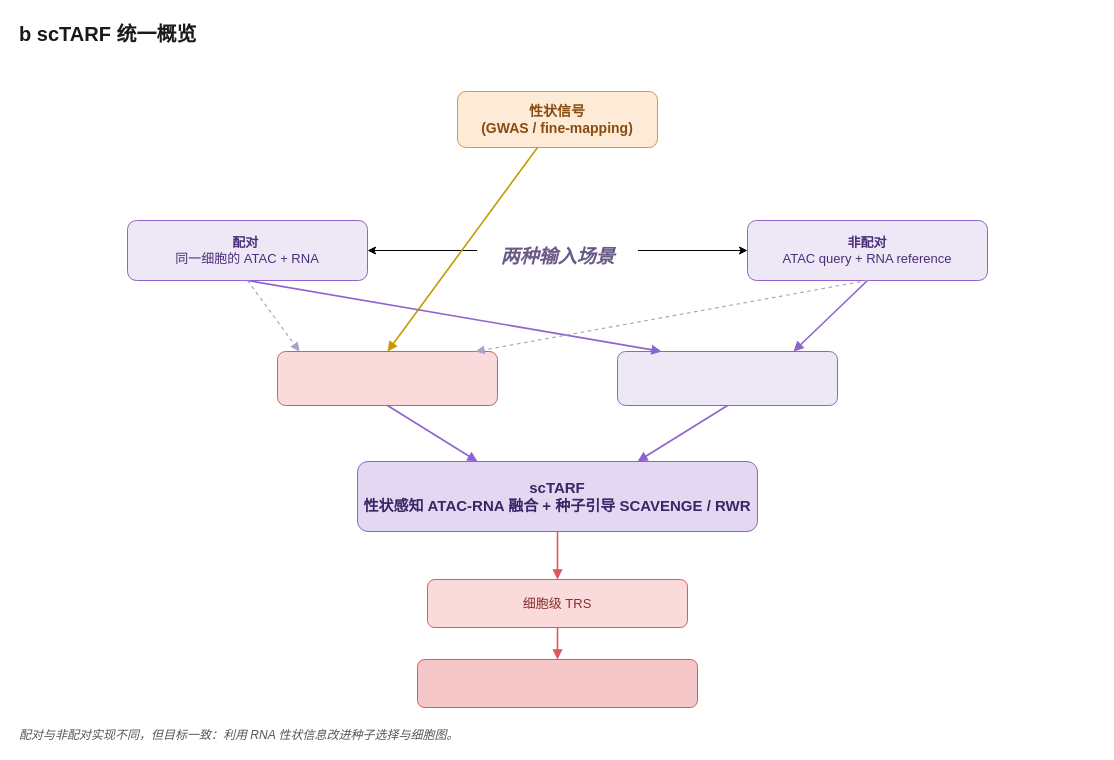
The diagram is 1114 pixels wide and 760 high, and some of its shapes have lost their labels. Each missing label, with the centre of its shape:
ATAC-RNA 融合细胞图: the point at 727,378
RNA 指导的种子: the point at 387,378
高风险细胞群: the point at 557,683
